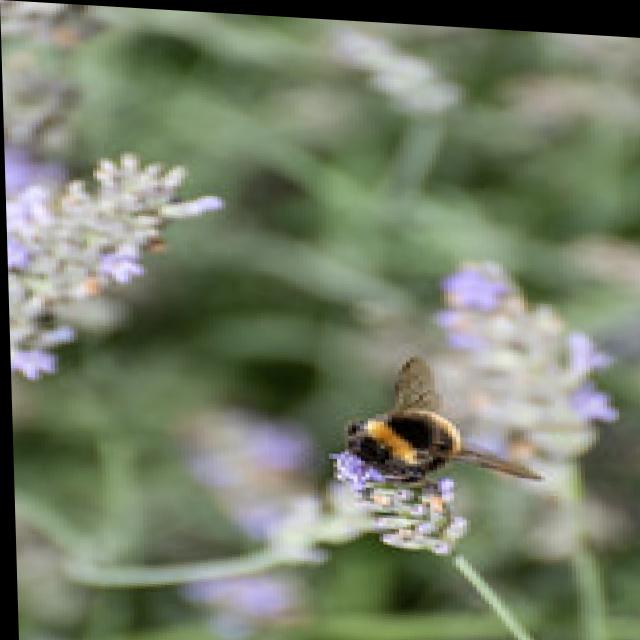Abeille: (330, 342, 572, 501)
